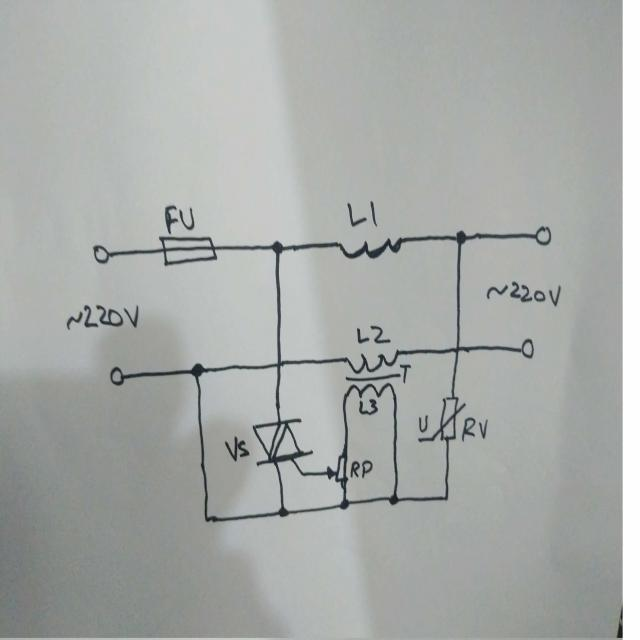crossover: (273, 353, 286, 373), (451, 340, 464, 359)
inductor: (336, 234, 404, 262)
junction: (190, 360, 204, 379), (200, 509, 214, 527), (454, 228, 468, 246), (337, 495, 350, 514), (387, 490, 400, 509), (441, 491, 454, 510), (271, 239, 284, 257), (277, 505, 290, 523)
resistor: (325, 449, 349, 486)
terminal: (93, 243, 115, 267), (108, 363, 130, 387), (516, 337, 535, 361), (534, 224, 553, 247)
text: (65, 302, 140, 332), (486, 279, 561, 309), (345, 198, 379, 228), (163, 204, 195, 234), (223, 435, 250, 463), (461, 416, 488, 440), (355, 326, 391, 344), (350, 459, 373, 479), (358, 398, 380, 416), (398, 362, 411, 386)
transformer: (342, 348, 401, 400)
